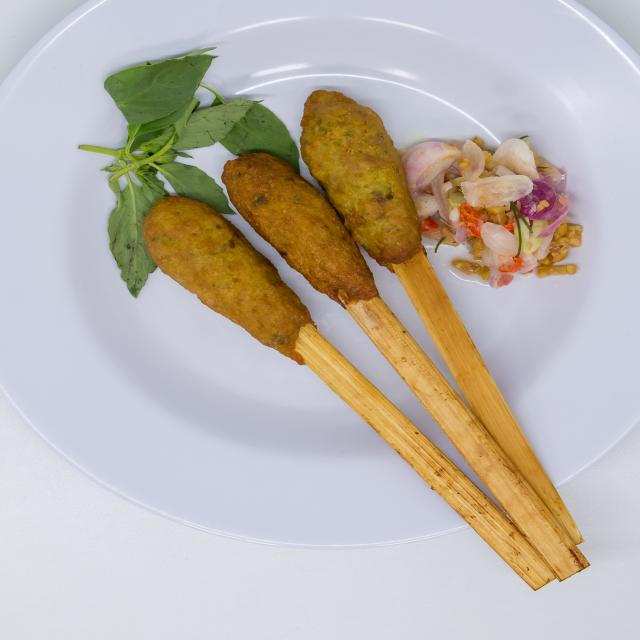Sate-Lilit: (77, 48, 572, 559)
